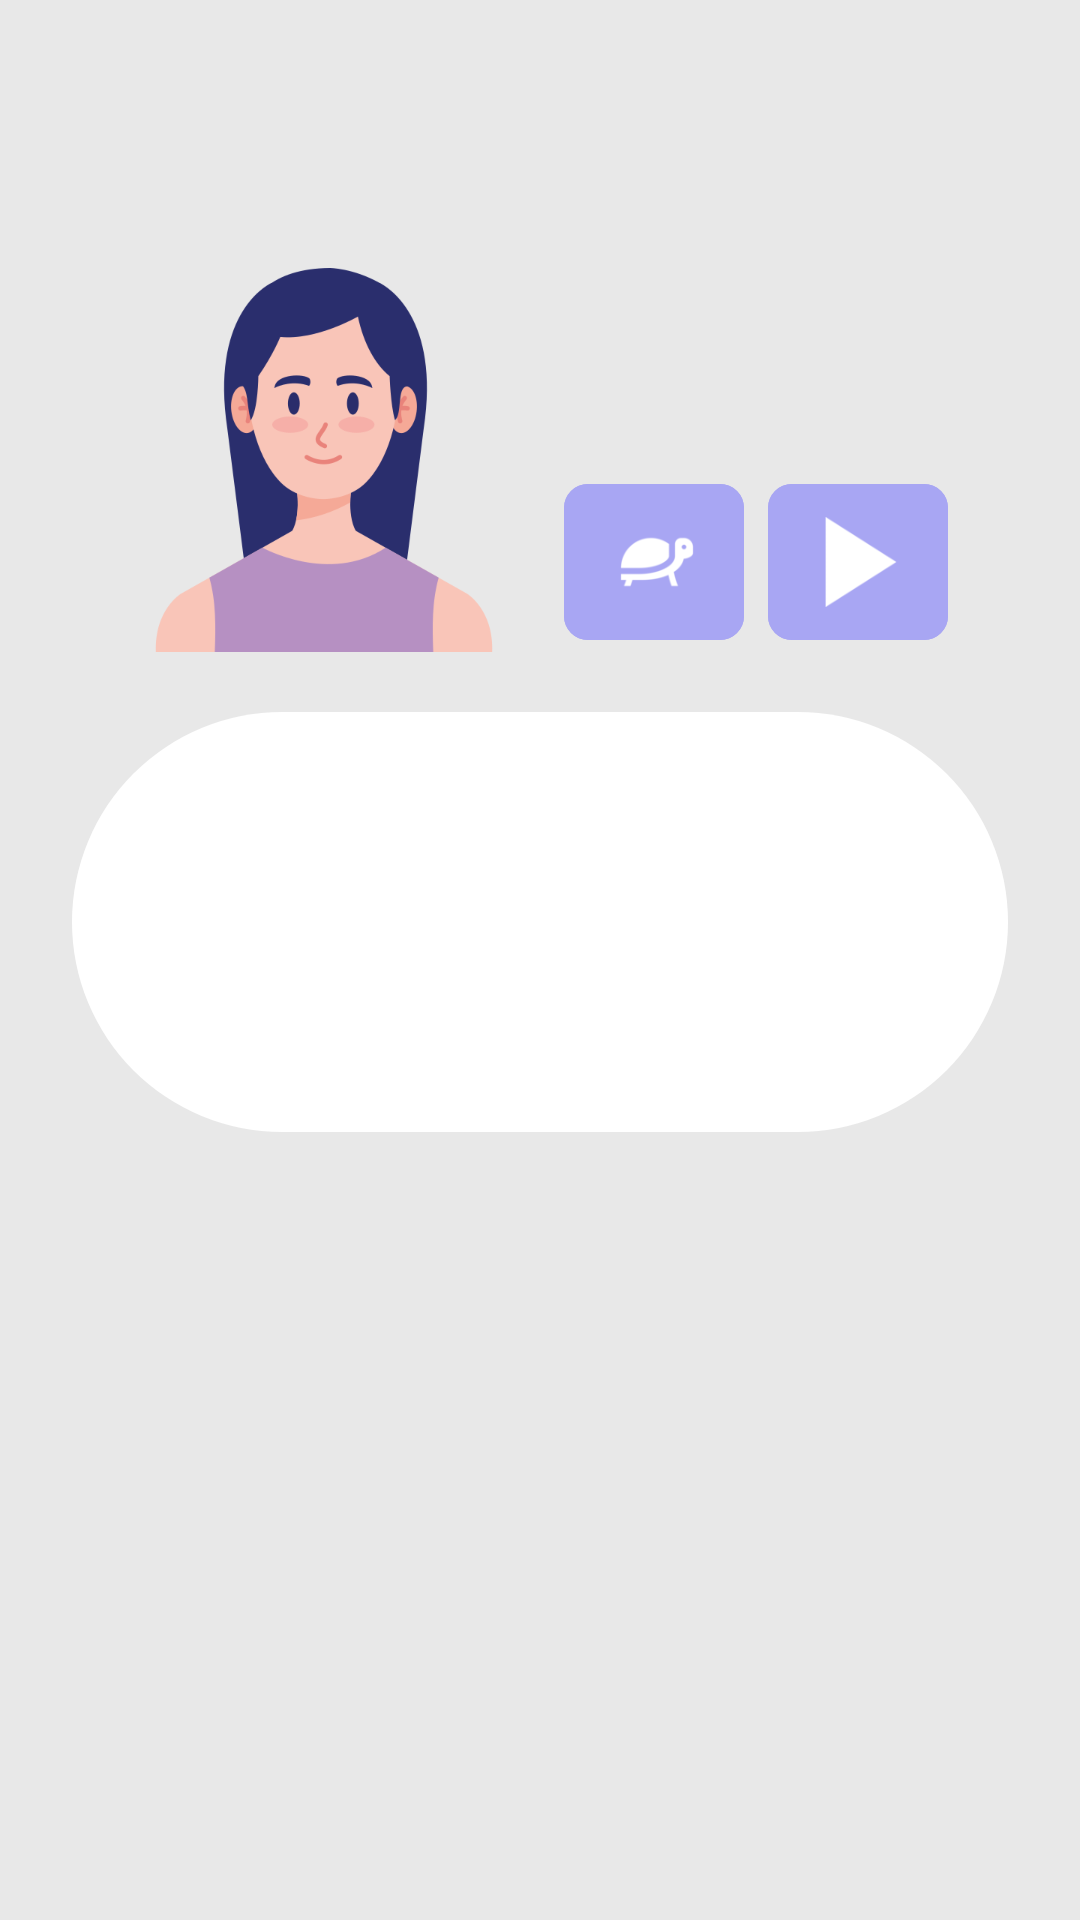

Icon bounding boxes for this 1080w x 1920h phone screenshot, format rect(x1, y1, x2, y2):
play sound: rect(768, 484, 948, 640)
slow play: rect(564, 484, 744, 640)
